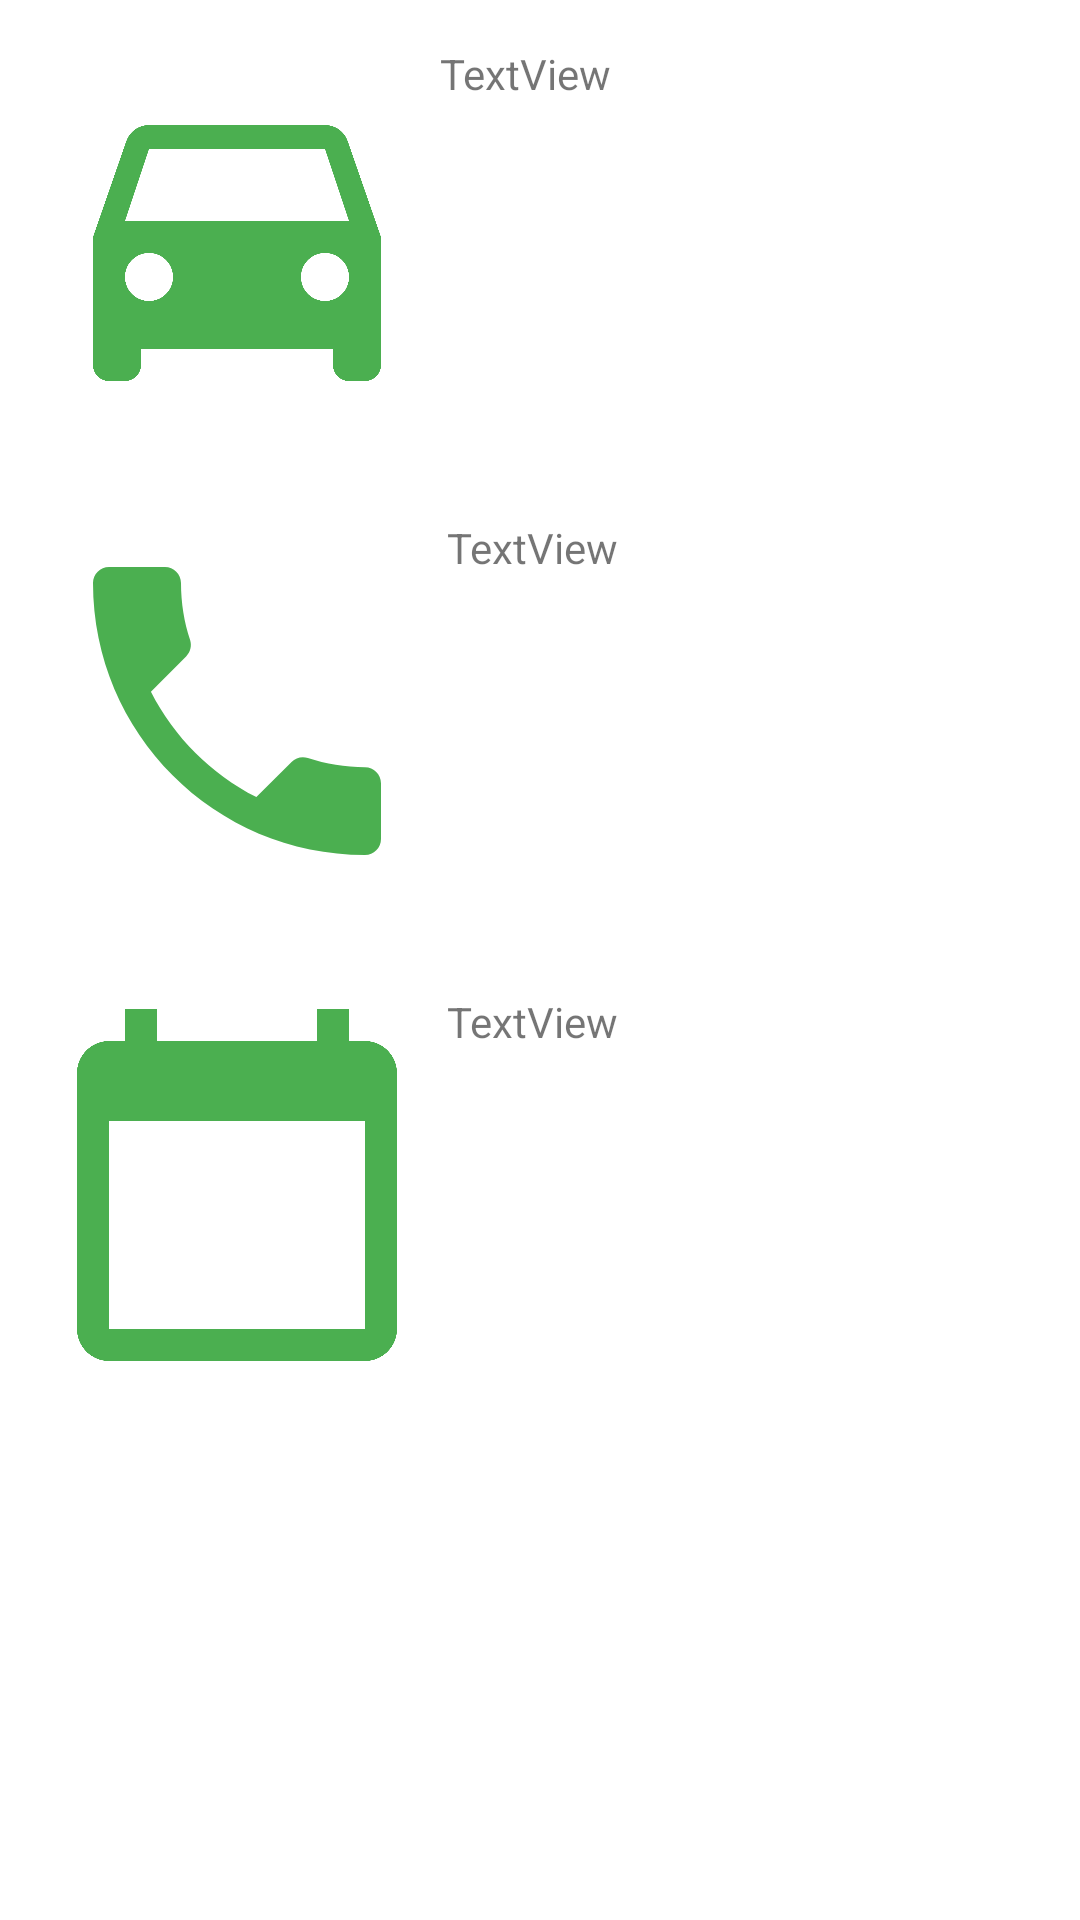

Screen size 1080w x 1920h. Icon name, then its box in pixels as [x1,y1,x2,y2]:
calendar: [77,1009,397,1361]
car: [93,125,381,381]
